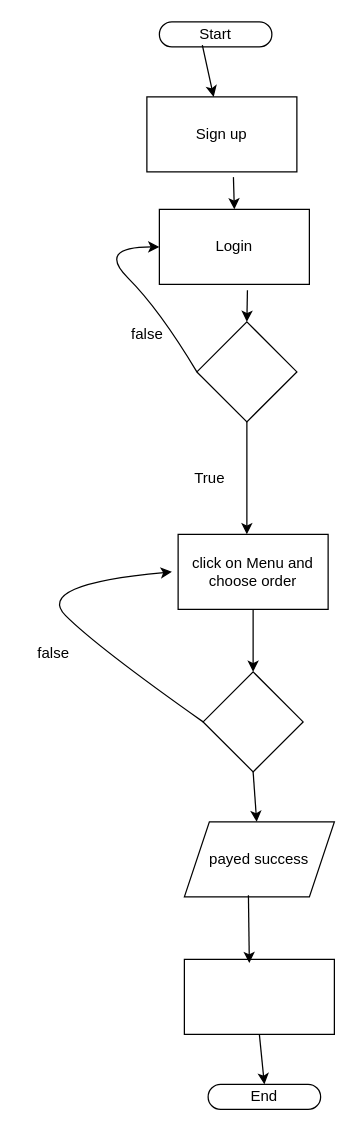
This 356x1131 diagram has some shape labels left out. Here are the shapes that lost their labels. From the top down, the centre of each, then its label:
At (246,371): "if valid and exist".
At (252,721): "If payed".
At (258,996): "Logout".
